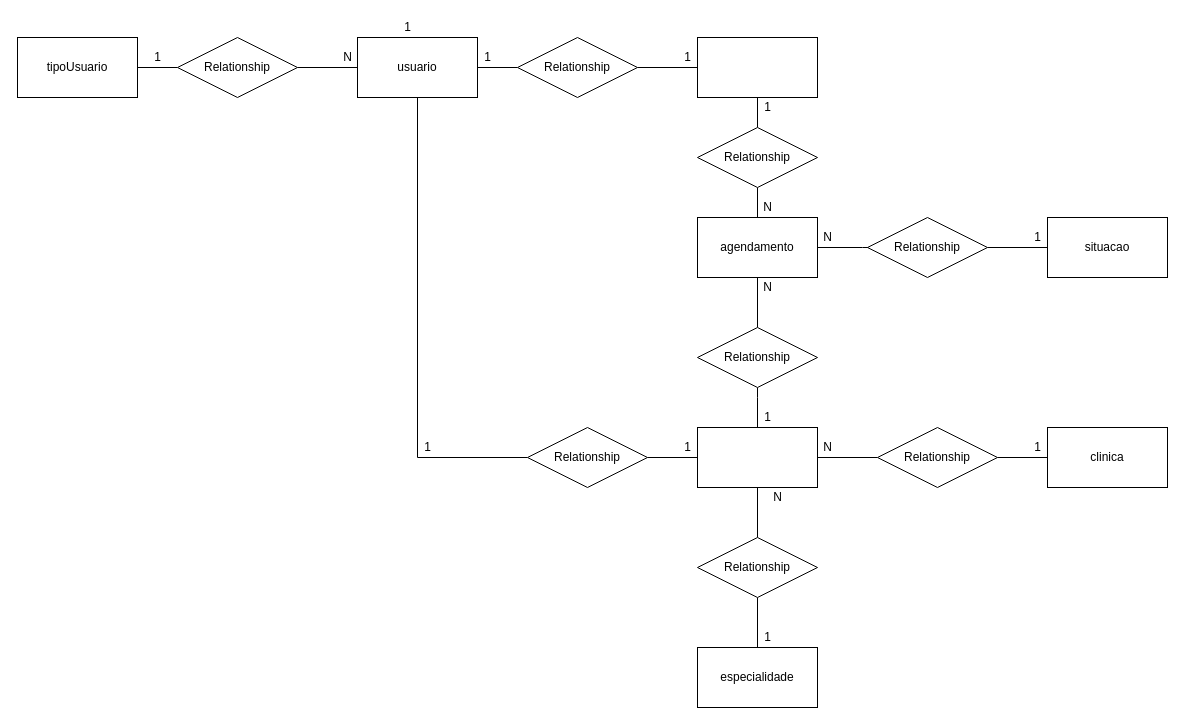
The diagram is 1185 pixels wide and 725 high, and some of its shapes have lost their labels. Here are the shapes that lost their labels. From the top down, the centre of each, then its label:
At [757,67]: "paciente".
At [757,457]: "medico".
